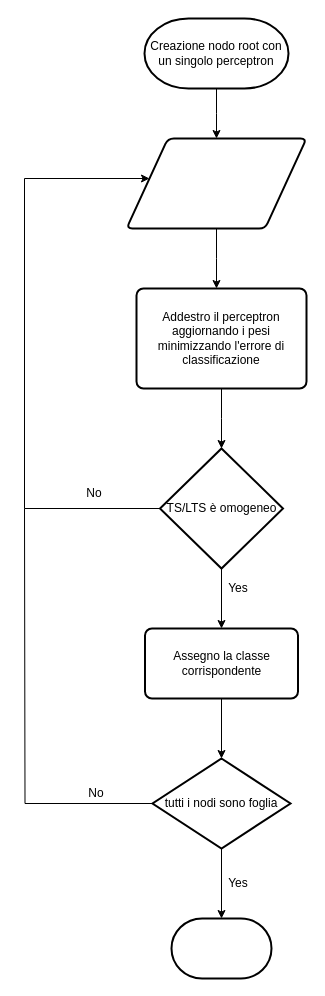
Some shapes in this 325 by 996 pixel diagram are drawn without their labels. The shapes that lost their labels are listed below. From the top down, each one's centre as x and y in pixels, then its label:
At (216,183): "TS/LTS di input al nodo radice o interno".
At (221,948): "Fine".
